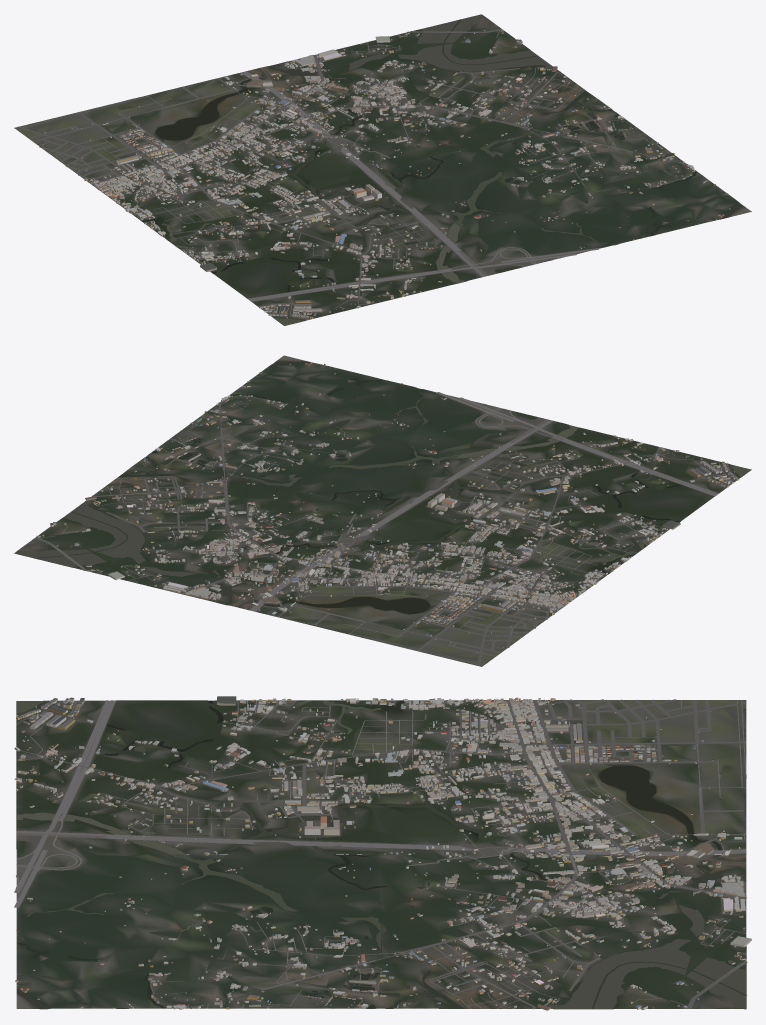
The picture shows the model from 3 angles, top to bottom: view 1: azimuth 30°, elevation 25°; view 2: azimuth 150°, elevation 25°; view 3: azimuth 270°, elevation 25°; orthographic projection. The views are drawn at different scales.
Visible parts, largest first — view 1: ground, buildings, roads, water; view 2: ground, buildings, roads, water; view 3: ground, buildings, roads, water.
Part boxes in pixels (x1=…): ground: x1=14, y1=15, x2=751, y2=325; buildings: x1=42, y1=29, x2=730, y2=319; roads: x1=16, y1=29, x2=687, y2=319; water: x1=141, y1=14, x2=742, y2=325; ground: x1=14, y1=355, x2=751, y2=666; buildings: x1=36, y1=362, x2=739, y2=653; roads: x1=34, y1=392, x2=734, y2=665; water: x1=14, y1=361, x2=750, y2=613; ground: x1=16, y1=700, x2=746, y2=1009; buildings: x1=14, y1=696, x2=751, y2=1010; roads: x1=14, y1=699, x2=747, y2=1009; water: x1=16, y1=700, x2=746, y2=1008.
Size of the model in its own units: 2833 by 31.47 by 2832.
